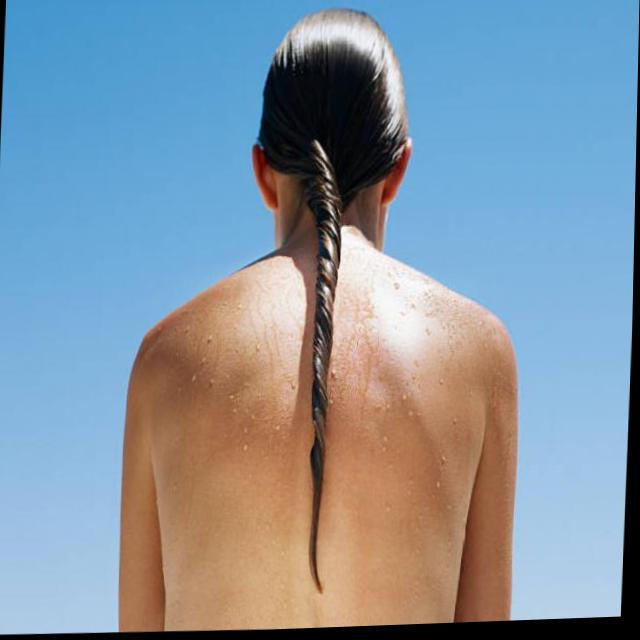no helmet: (229, 0, 432, 343)
